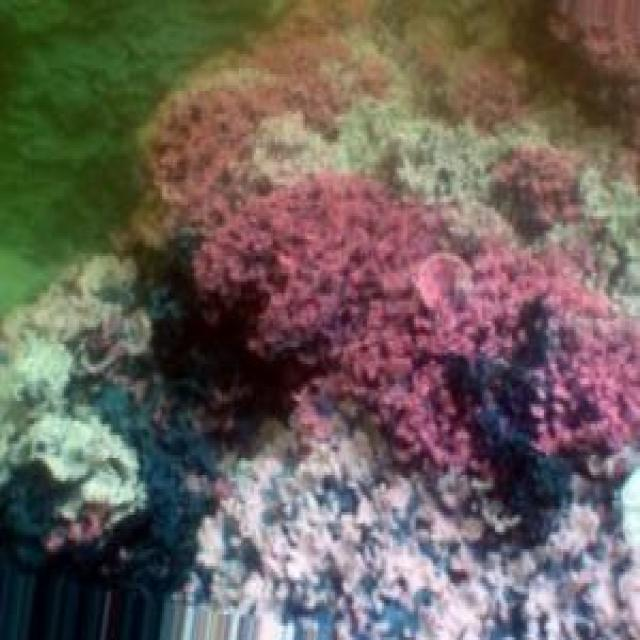Healthy: (191, 175, 640, 482)
